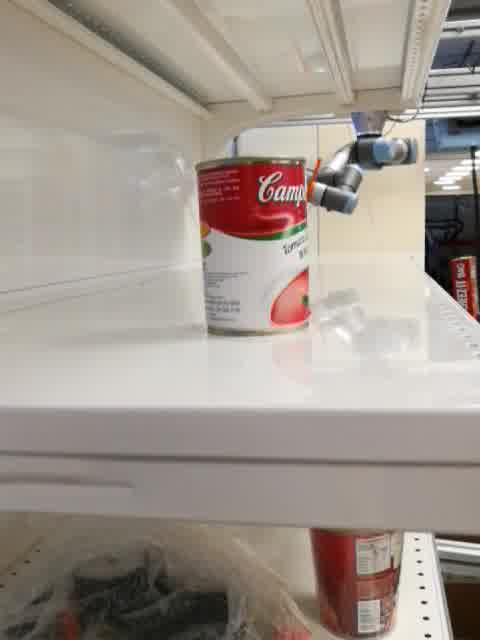tomatosoup: (194, 154, 312, 340)
